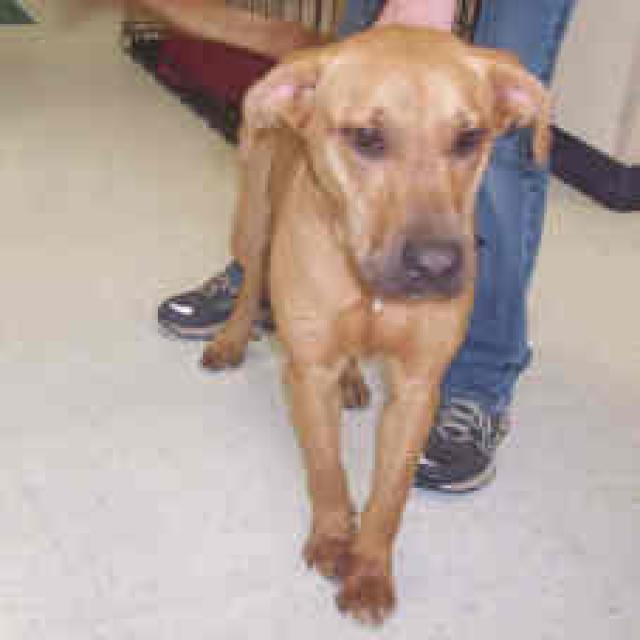Dogs: (198, 21, 552, 627)
